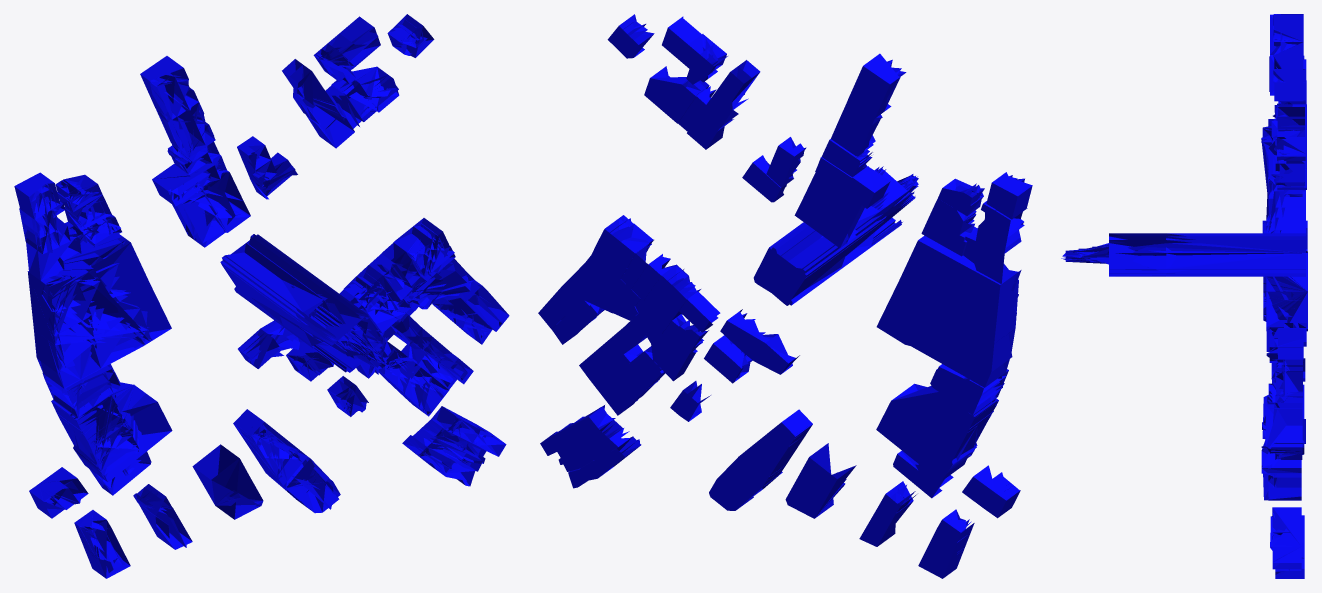
The model's file is buildings.glb.
3 views of the same model, side by side, from view 1: azimuth 30°, elevation 25°; view 2: azimuth 150°, elevation 25°; view 3: azimuth 270°, elevation 25° (orthographic). The views are drawn at different scales.
Parts seen in each view (by area): view 1: triangles55; view 2: triangles55; view 3: triangles55.
Part boxes in pixels (x1,y1,x2,y2): triangles55: (14,14,509,578); triangles55: (538,14,1032,578); triangles55: (1061,14,1307,578).
Size of the model in its own units: 188 by 185 by 93.9.
